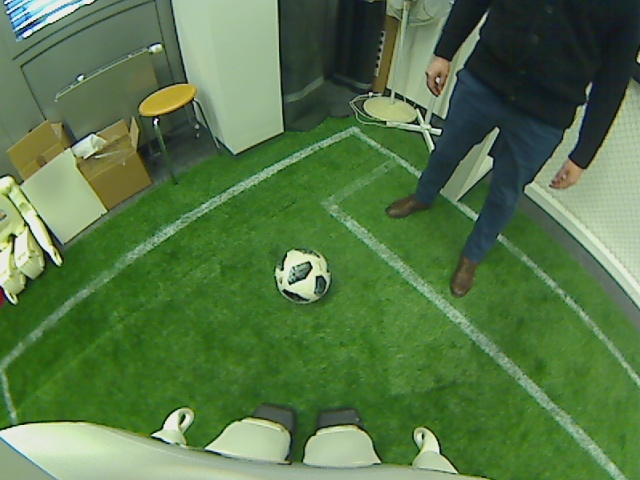ball: (276, 243, 332, 307)
